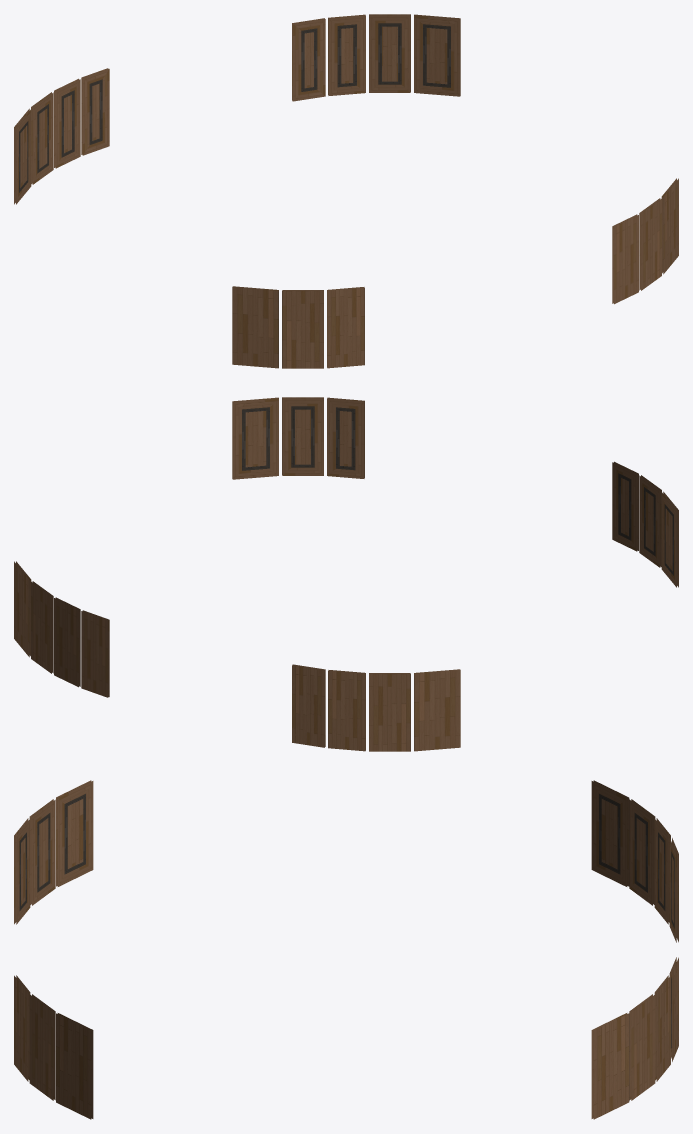
The model's file is AtriumScreens_WoodPanels.fbx.
3 views of the same model, one above another, from view 1: azimuth 30°, elevation 25°; view 2: azimuth 150°, elevation 25°; view 3: azimuth 270°, elevation 25° (orthographic). The views are drawn at different scales.
Visible parts, largest first — view 1: AtriumScreens_WoodPanels; view 2: AtriumScreens_WoodPanels; view 3: AtriumScreens_WoodPanels.
Part boxes in pixels (<box>): AtriumScreens_WoodPanels: <box>14,14,678,368</box>; AtriumScreens_WoodPanels: <box>14,397,678,751</box>; AtriumScreens_WoodPanels: <box>14,780,678,1119</box>.
Size of the model in its own units: 3162 by 525 by 3547.
